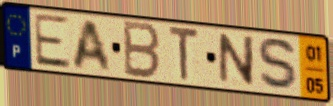A: (71, 18, 114, 74)
B: (122, 18, 163, 82)
E: (31, 11, 73, 71)
N: (217, 32, 257, 88)
S: (256, 36, 302, 94)
T: (167, 24, 201, 84)
